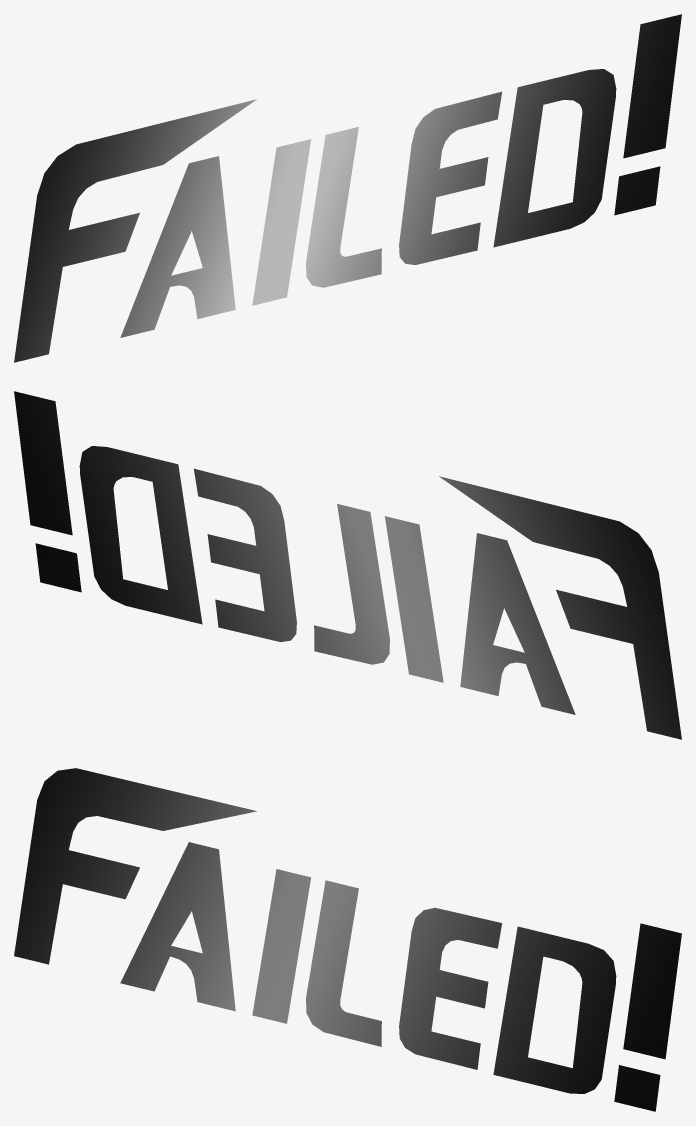
The model's file is changjing_jiesuan_shibai.FBX.
The picture shows the model from 3 angles, top to bottom: view 1: azimuth 30°, elevation 25°; view 2: azimuth 150°, elevation 25°; view 3: azimuth 330°, elevation 25°; orthographic projection.
Visible parts, largest first — view 1: Text001; view 2: Text001; view 3: Text001.
Boxes of the visible parts, box(x1,y1,x2,y2) form: Text001: box(14, 14, 681, 362); Text001: box(14, 391, 681, 739); Text001: box(14, 768, 681, 1111).
Size of the model in its own units: 225 by 66.38 by 2.9e-06.
1 material, 1 textured.
